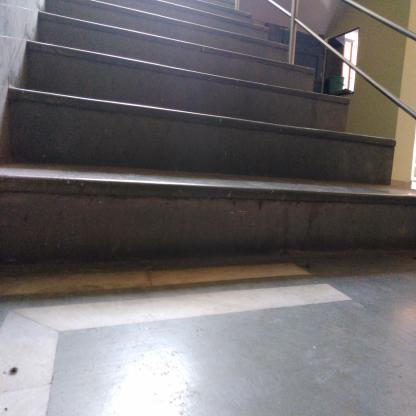stairs: (43, 7, 269, 273)
